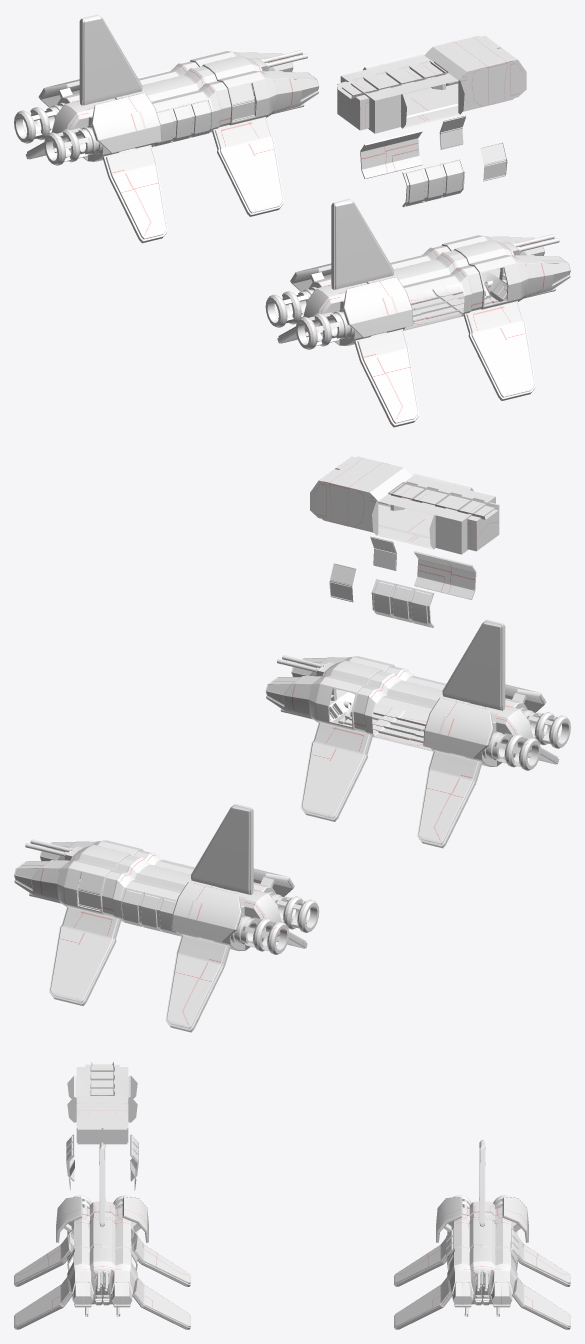
File: SK_Corruption_Zombie_Dropship_Exploded.fbx
3 views of the same model, one above another, from view 1: azimuth 30°, elevation 25°; view 2: azimuth 150°, elevation 25°; view 3: azimuth 270°, elevation 25° (orthographic). The views are drawn at different scales.
Parts seen in each view (by area): view 1: Ship_model_Mesh, Ship_model_Mesh.001, Ship_interior, Ship_model_Doors, Ship_model_Doors.001; view 2: Ship_model_Mesh, Ship_model_Mesh.001, Ship_interior, Ship_model_Doors, Ship_model_Doors.001; view 3: Ship_model_Mesh, Ship_model_Mesh.001, Ship_interior, Ship_model_Doors, Ship_model_Doors.001.
Boxes of the visible parts, bbox=[...] form: Ship_model_Mesh: bbox=[265, 198, 570, 427]; Ship_model_Mesh.001: bbox=[14, 14, 319, 243]; Ship_interior: bbox=[337, 35, 526, 133]; Ship_model_Doors: bbox=[360, 115, 507, 207]; Ship_model_Doors.001: bbox=[138, 70, 255, 147]; Ship_model_Mesh: bbox=[265, 619, 570, 848]; Ship_model_Mesh.001: bbox=[14, 803, 319, 1032]; Ship_interior: bbox=[310, 456, 499, 554]; Ship_model_Doors: bbox=[329, 536, 476, 627]; Ship_model_Doors.001: bbox=[77, 859, 194, 936]; Ship_model_Mesh: bbox=[14, 1142, 190, 1329]; Ship_model_Mesh.001: bbox=[394, 1140, 570, 1329]; Ship_interior: bbox=[67, 1062, 137, 1144]; Ship_model_Doors: bbox=[66, 1134, 138, 1190]; Ship_model_Doors.001: bbox=[446, 1228, 518, 1269].
Size of the model in its own units: 2097 by 5005 by 2234.
